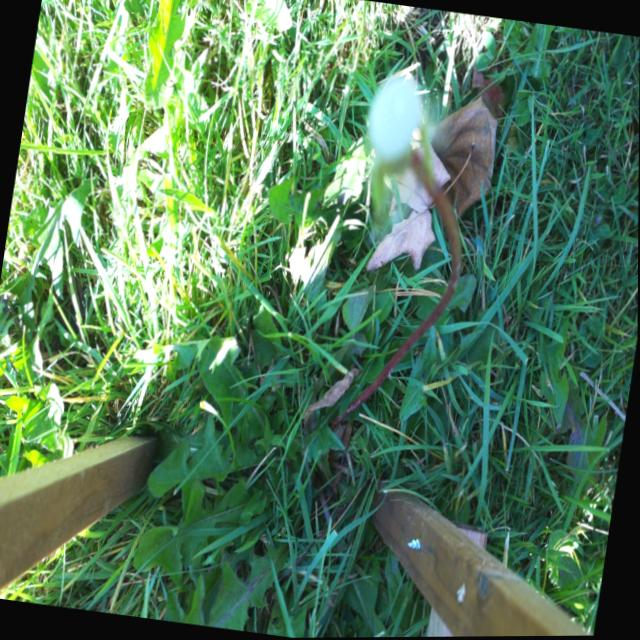base: (325, 395, 360, 441)
flower: (357, 75, 445, 190)
